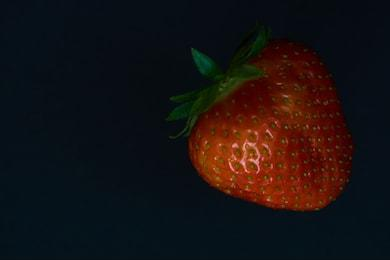Fresa: (183, 39, 357, 216)
